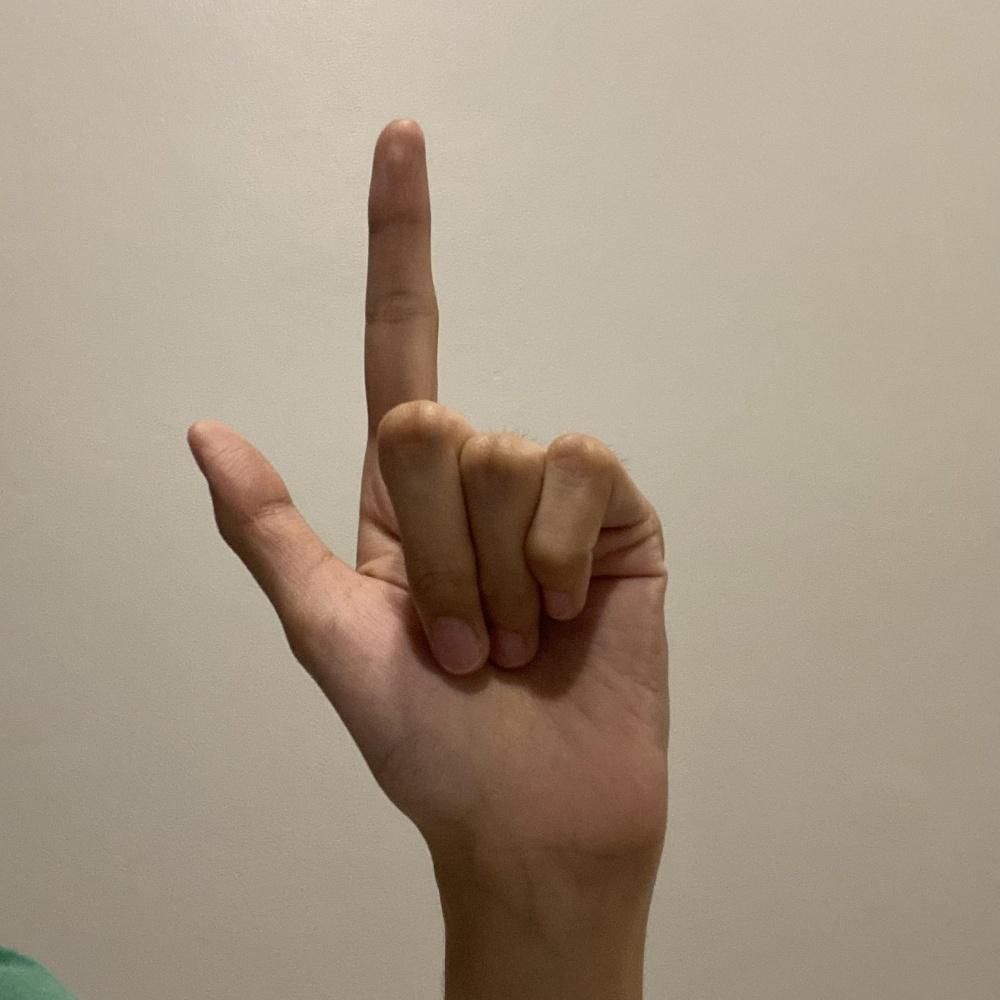l: (183, 111, 674, 859)
